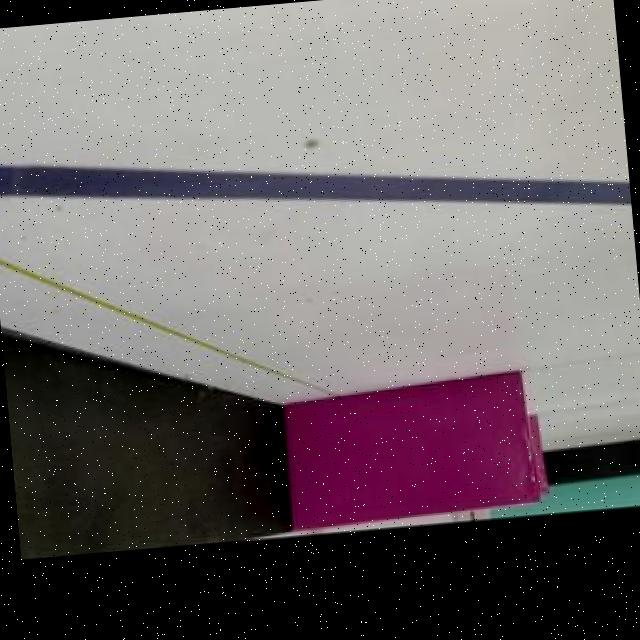xparking: (288, 376, 536, 518)
